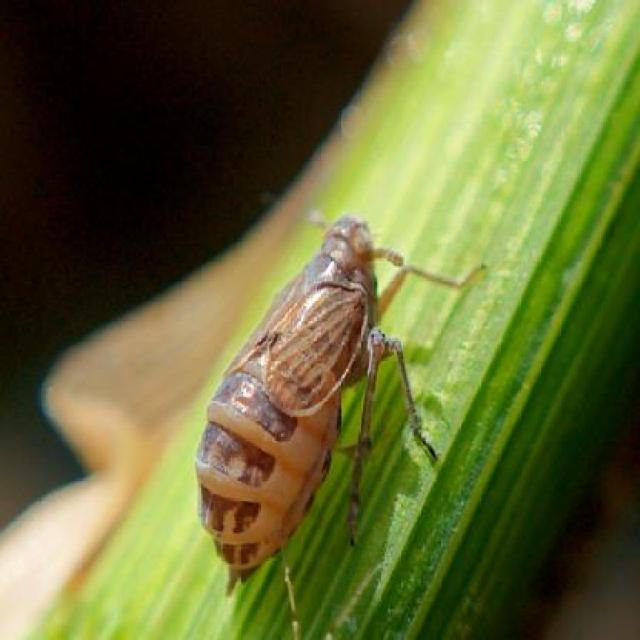wereng pada daun padi: (189, 204, 488, 590)
